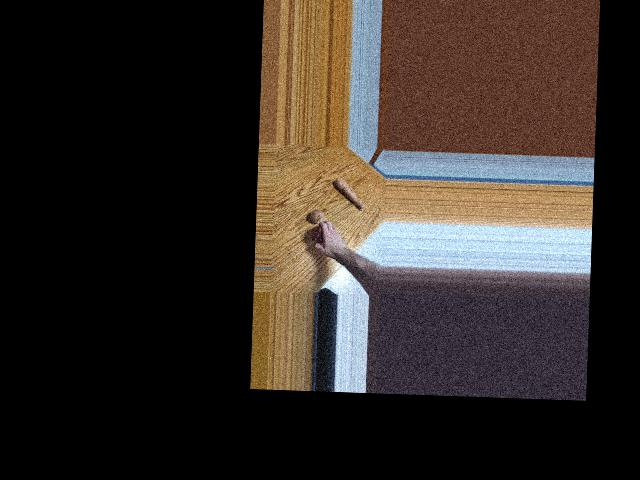onion: (311, 225, 328, 244)
